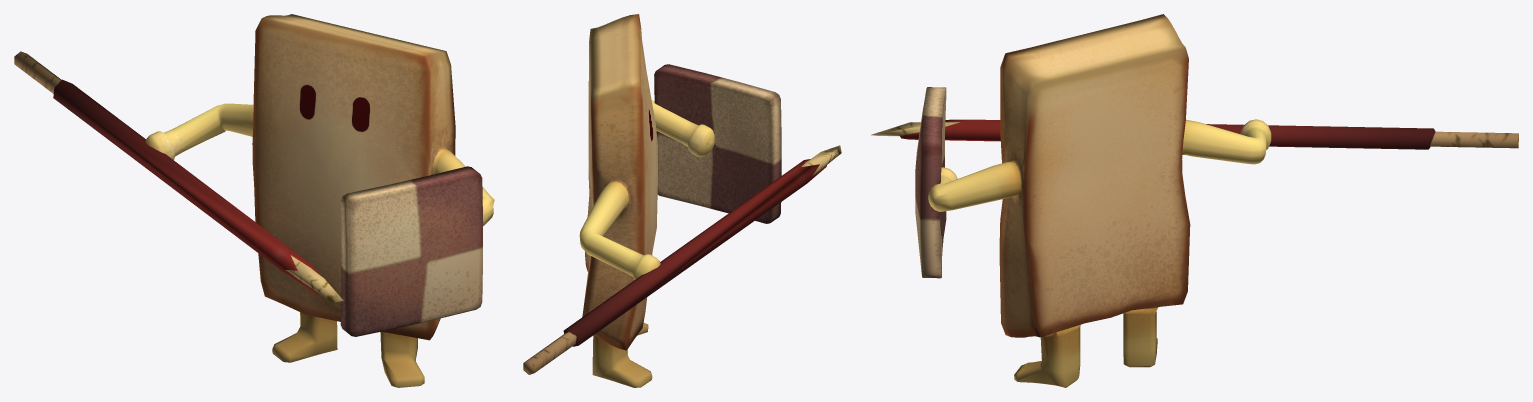
Rendered from Mod_Soldier.gltf.
3 renders of one model, left to right at view 1: azimuth 30°, elevation 25°; view 2: azimuth 150°, elevation 25°; view 3: azimuth 270°, elevation 25°, orthographic. The views are drawn at different scales.
Parts seen in each view (by area): view 1: Soldier; view 2: Soldier; view 3: Soldier.
Boxes of the visible parts, bbox=[...] form: Soldier: bbox=[14, 14, 494, 387]; Soldier: bbox=[523, 14, 841, 387]; Soldier: bbox=[871, 14, 1518, 387].
Size of the model in its own units: 2.53 by 3.91 by 7.03.
1 material, 1 textured.
